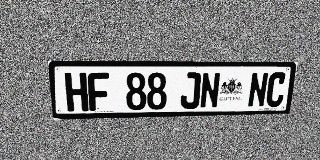8: (126, 72, 146, 110), (147, 72, 167, 110)
C: (265, 72, 287, 107)
F: (87, 72, 110, 111)
H: (64, 72, 89, 112)
J: (180, 72, 201, 109)
N: (199, 72, 221, 109), (247, 72, 269, 108)
